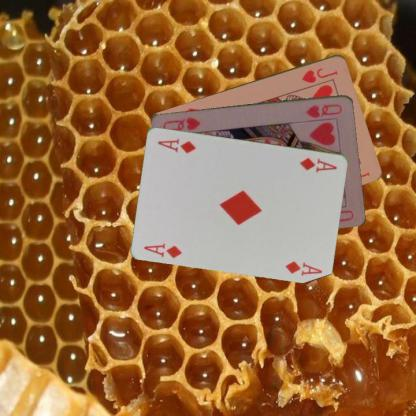Ad: (142, 240, 184, 260), (297, 154, 339, 173)
Jh: (299, 65, 339, 84)
Qh: (303, 101, 344, 119)
